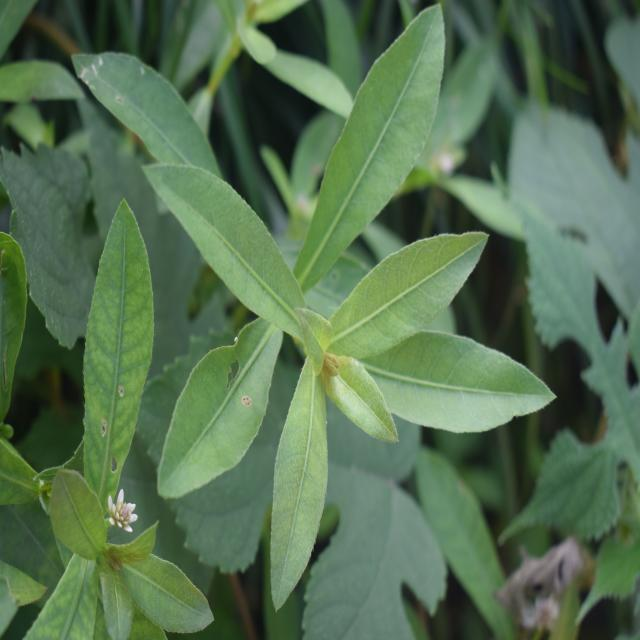Alligatorweed: (135, 43, 512, 537)
